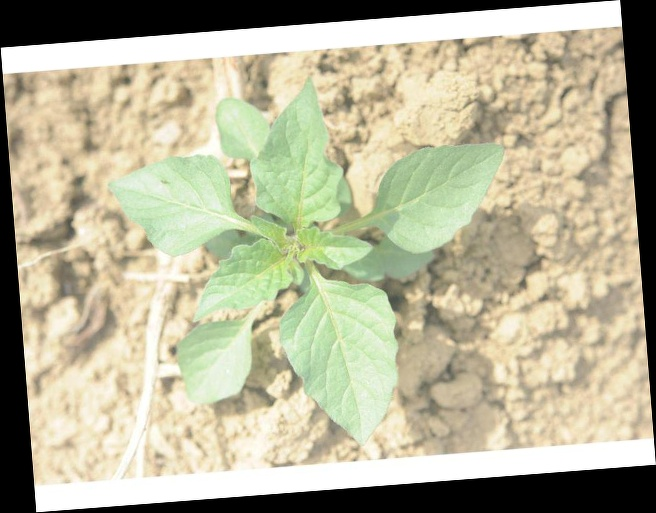nightshade: (113, 77, 512, 448)
